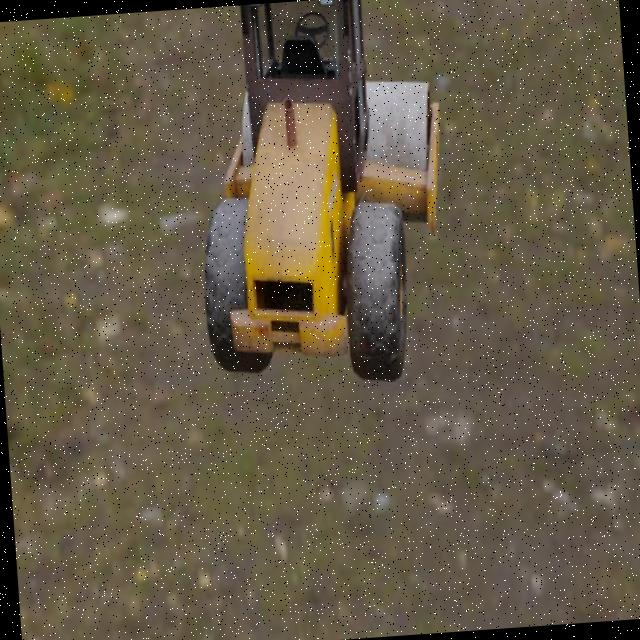Roller: (182, 0, 457, 394)
